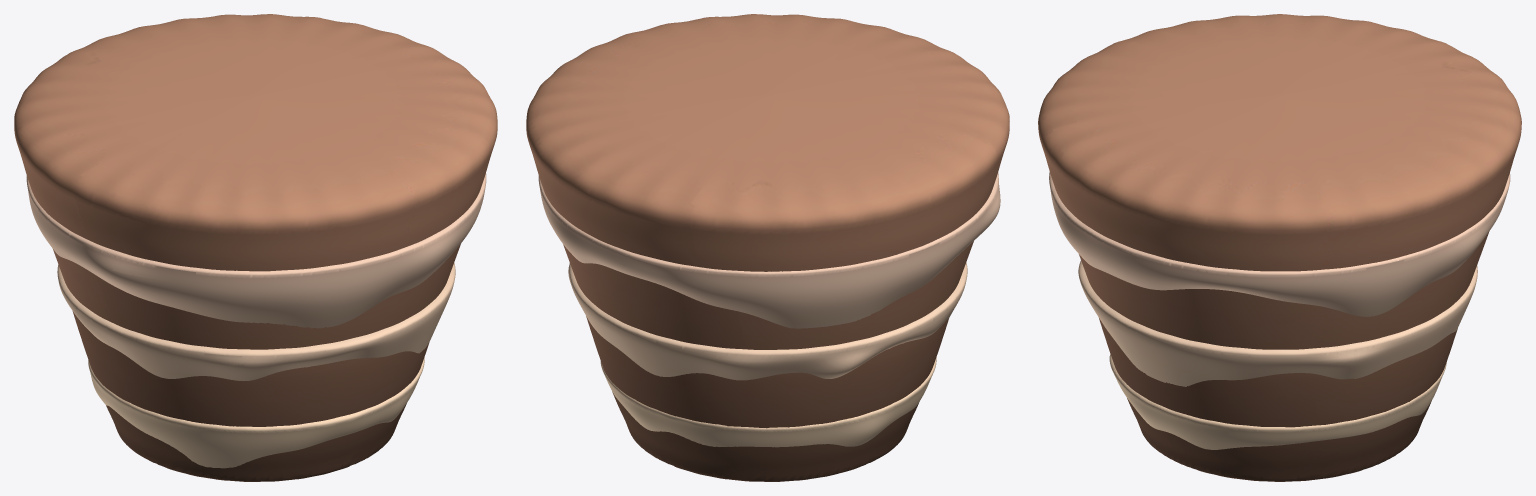
Rendered from PostreSweetHelp_Base_choco.glb.
3 renders of one model, left to right at view 1: azimuth 30°, elevation 25°; view 2: azimuth 150°, elevation 25°; view 3: azimuth 270°, elevation 25°, orthographic.
Parts seen in each view (by area): view 1: CremaBasw, crema_Suelta; view 2: CremaBasw, crema_Suelta; view 3: CremaBasw, crema_Suelta.
Part boxes in pixels (x1=…): CremaBasw: x1=14, y1=14, x2=497, y2=481; crema_Suelta: x1=26, y1=173, x2=486, y2=468; CremaBasw: x1=526, y1=14, x2=1009, y2=481; crema_Suelta: x1=538, y1=172, x2=1000, y2=447; CremaBasw: x1=1038, y1=14, x2=1521, y2=481; crema_Suelta: x1=1049, y1=172, x2=1510, y2=449.
Size of the model in its own units: 2.5 by 1.89 by 2.5.
Materials: 2 (2 with a texture image).
